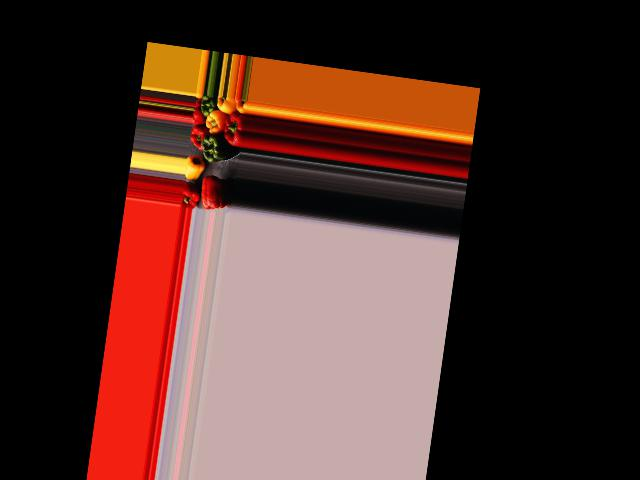bell_pepper: (182, 181, 201, 210)
